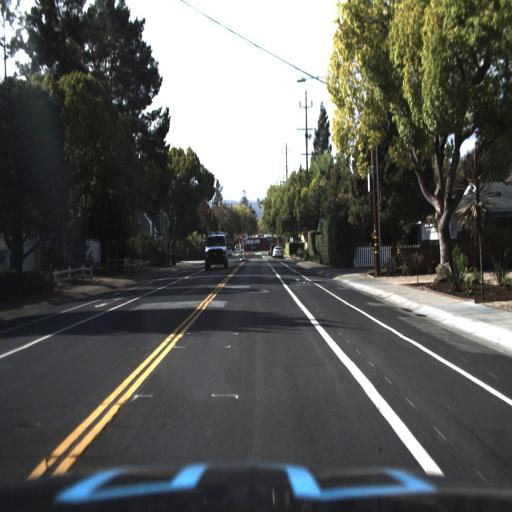car: (198, 227, 230, 276), (269, 241, 285, 261)
